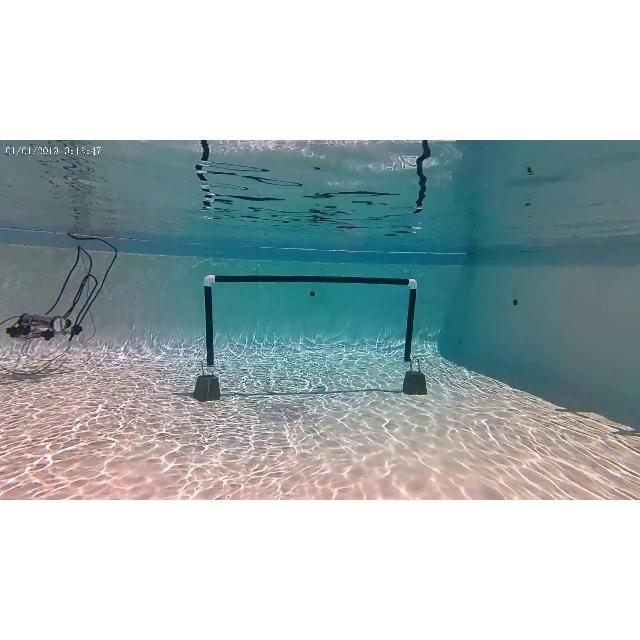prequal gate: (204, 275, 418, 373)
prequal gate leg l: (194, 276, 222, 400)
prequal gate leg r: (401, 280, 431, 394)
